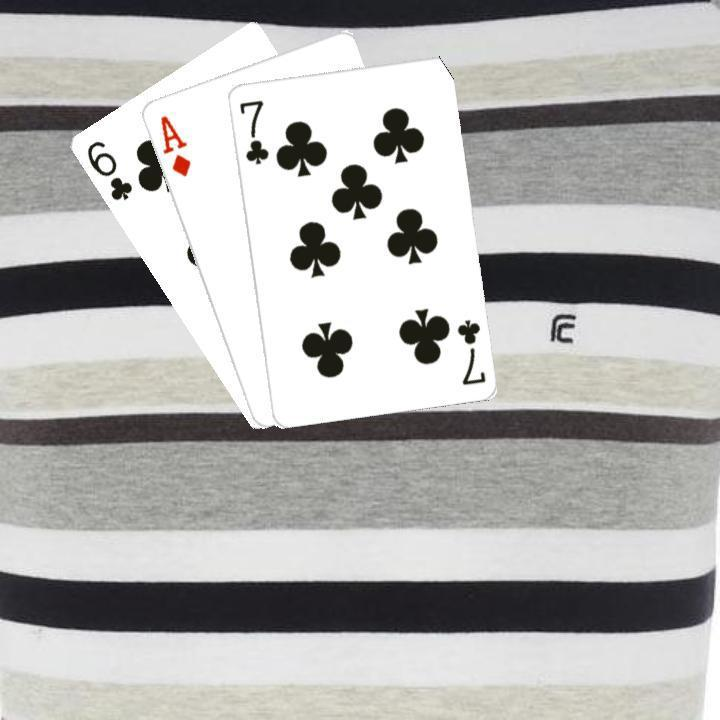6: (81, 136, 134, 203)
7: (452, 315, 488, 387), (234, 95, 270, 166)
A: (155, 111, 192, 179)
